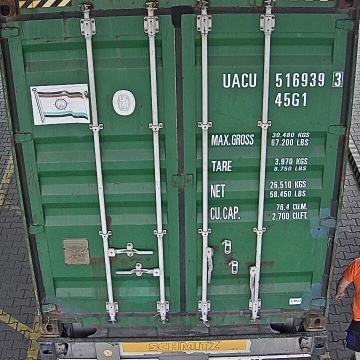serial_id: (223, 71, 342, 87)
